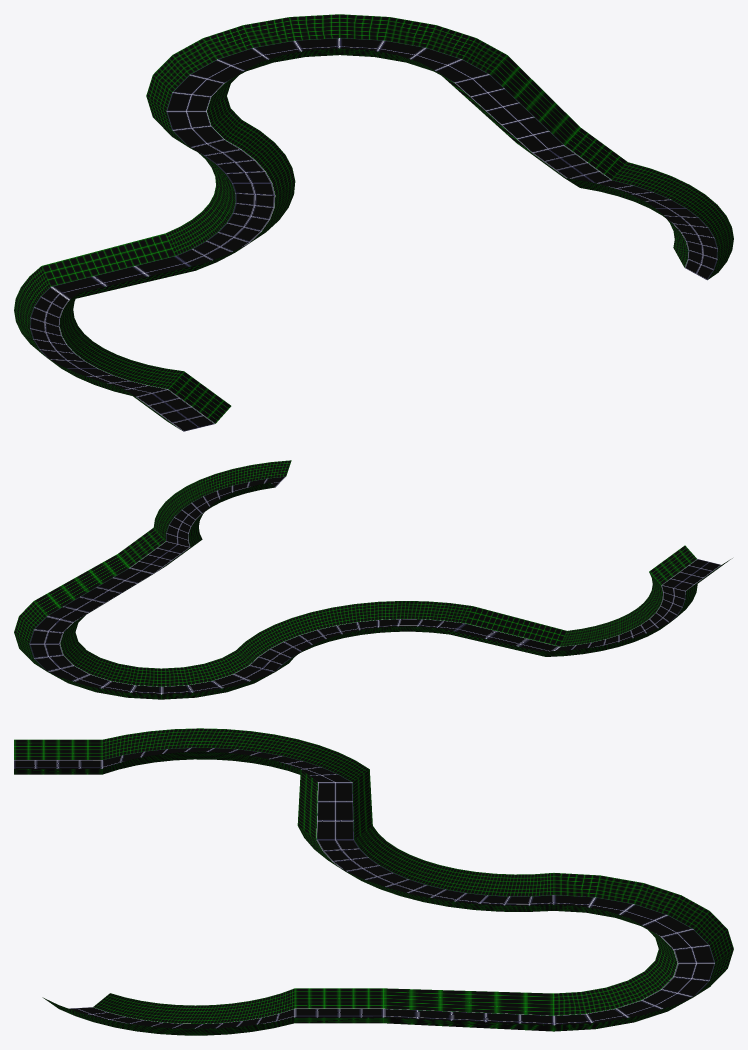
The model's file is canals.glb.
3 views of the same model, one above another, from view 1: azimuth 30°, elevation 25°; view 2: azimuth 150°, elevation 25°; view 3: azimuth 270°, elevation 25° (orthographic). The views are drawn at different scales.
Parts seen in each view (by area): view 1: Plane; view 2: Plane; view 3: Plane.
Boxes of the visible parts, x1,y1,x2,y2 form: Plane: (14, 14, 733, 431); Plane: (14, 460, 732, 699); Plane: (14, 728, 733, 1035).
Size of the model in its own units: 123 by 2.73 by 125.
Materials: 2 (2 with a texture image).
